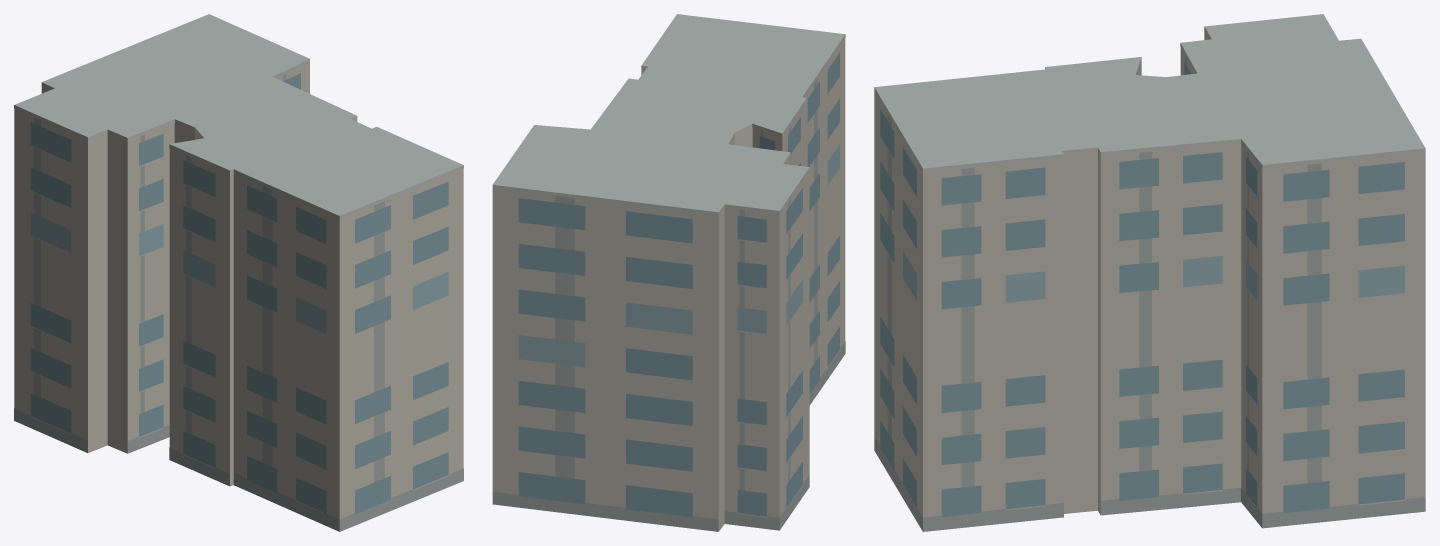
File: survey-upis-32961156.glb
3 renders of one model, left to right at view 1: azimuth 30°, elevation 25°; view 2: azimuth 150°, elevation 25°; view 3: azimuth 270°, elevation 25°, orthographic. The views are drawn at different scales.
Parts seen in each view (by area): view 1: survey-upis-32961156.tmp; view 2: survey-upis-32961156.tmp; view 3: survey-upis-32961156.tmp.
Boxes of the visible parts, x1,y1,x2,y2 form: survey-upis-32961156.tmp: (14,14,463,531); survey-upis-32961156.tmp: (492,14,845,531); survey-upis-32961156.tmp: (874,14,1425,531).
Bounding box in the file's own units: 19.13 × 20.95 × 28.82.
